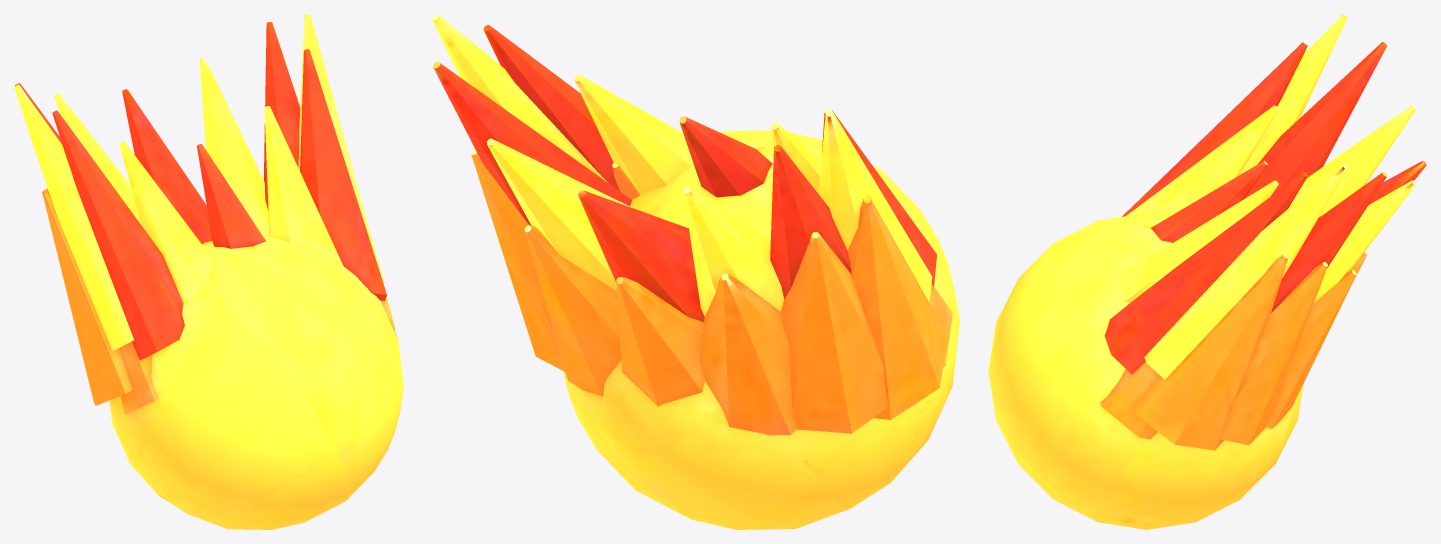
The model's file is bola_fuego.glb.
The picture shows the model from 3 angles, left to right: view 1: azimuth 30°, elevation 25°; view 2: azimuth 150°, elevation 25°; view 3: azimuth 270°, elevation 25°; orthographic projection. The views are drawn at different scales.
Parts seen in each view (by area): view 1: bola_fuego; view 2: bola_fuego; view 3: bola_fuego.
Boxes of the visible parts, x1,y1,x2,y2 form: bola_fuego: (14, 14, 403, 529); bola_fuego: (432, 14, 959, 529); bola_fuego: (988, 14, 1426, 529).
Size of the model in its own units: 0.9156 by 1.18 by 1.11.
1 material, 1 textured.
